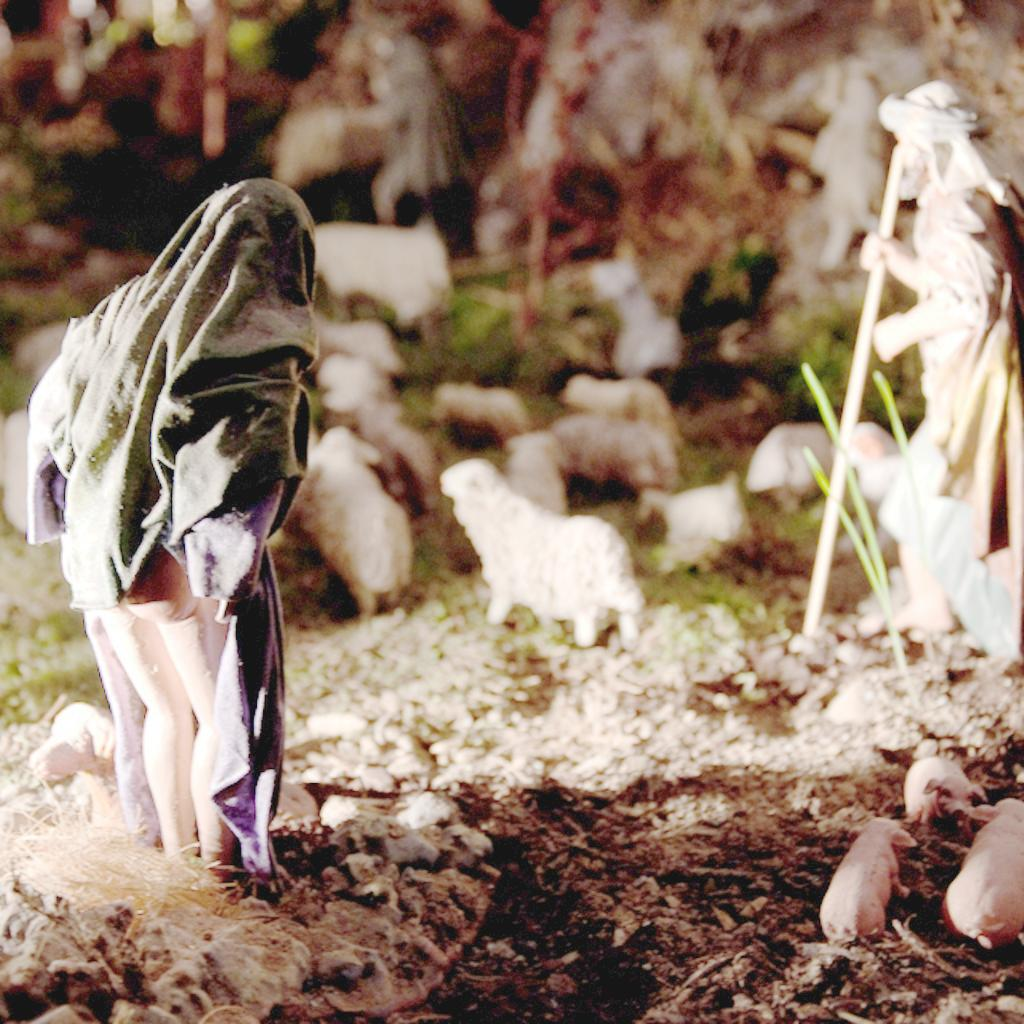Sheep: (438, 464, 644, 654)
